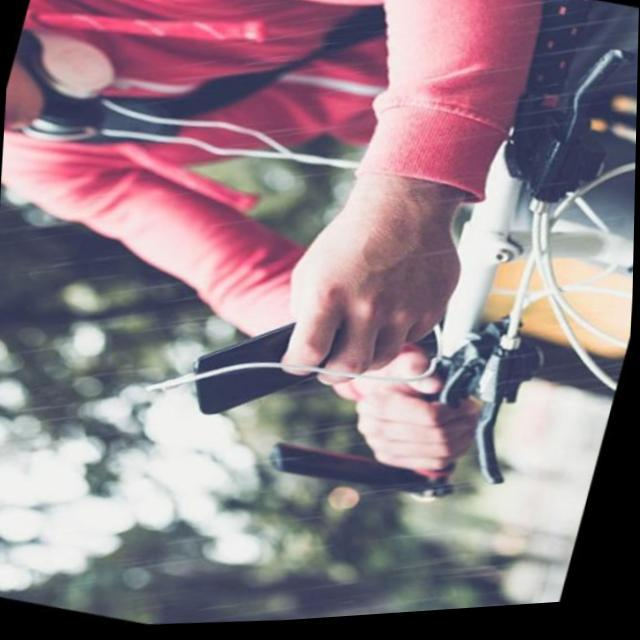use_mobile: (183, 174, 462, 418)
